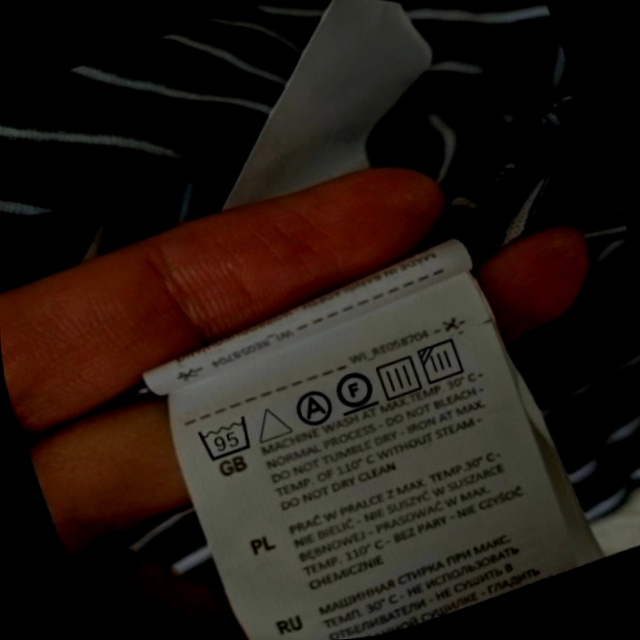95C: (192, 409, 261, 467)
bleach: (247, 396, 295, 449)
drip_dry: (370, 349, 428, 405)
drip_dry_in_shade: (414, 331, 473, 390)
dry_clean: (287, 383, 338, 433)
dry_clean_petrol_only: (328, 361, 382, 420)
